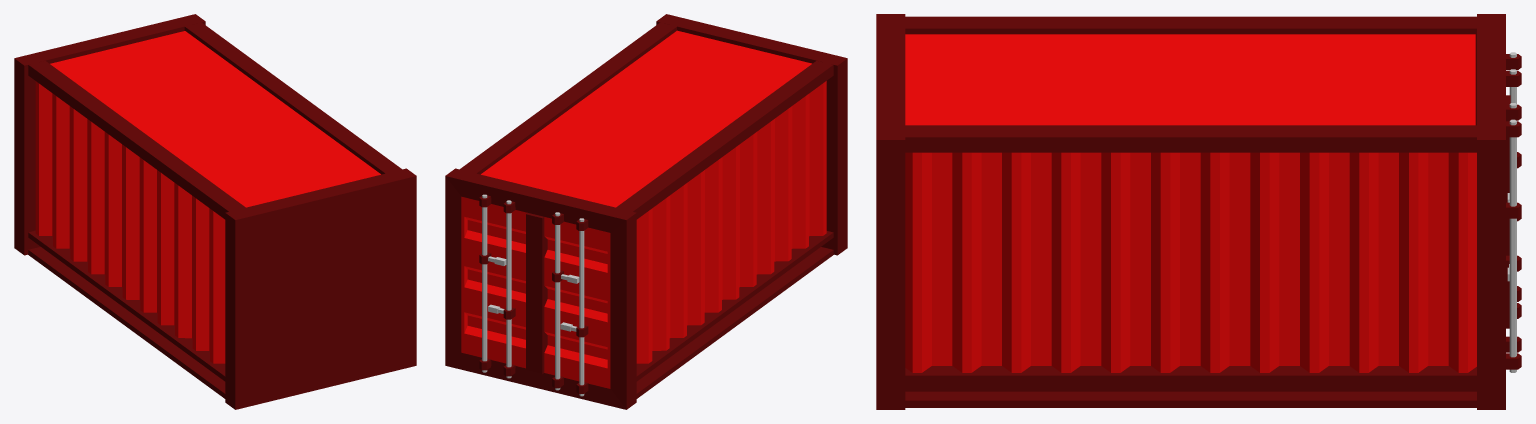
File: ShippingContaneRed.fbx
3 renders of one model, left to right at view 1: azimuth 30°, elevation 25°; view 2: azimuth 150°, elevation 25°; view 3: azimuth 270°, elevation 25°, orthographic. The views are drawn at different scales.
Visible parts, largest first — view 1: Cube.039; view 2: Cube.039; view 3: Cube.039.
Part boxes in pixels (x1,y1,x2,y2): Cube.039: (14, 14, 416, 409); Cube.039: (445, 14, 847, 409); Cube.039: (876, 14, 1521, 409).
Size of the model in its own units: 471 by 472 by 1019.
